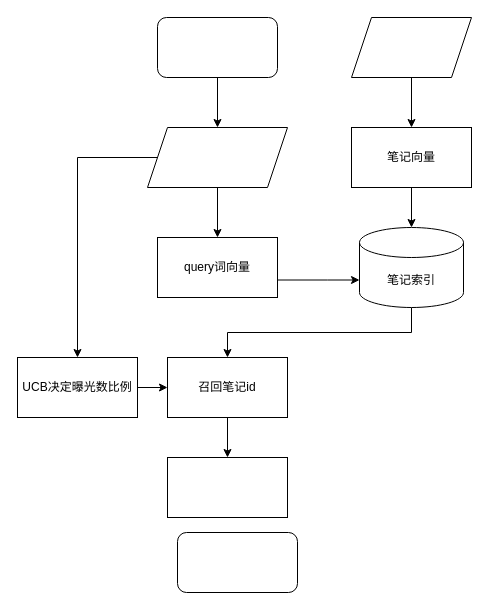
Some shapes in this 489 by 610 pixel diagram are drawn without their labels. The centre of each missing label's shape, as x and y in pixels:
search请求：query: the point at 217,157
多通道缓存: the point at 227,487
热门+最新视频笔记: the point at 411,47
